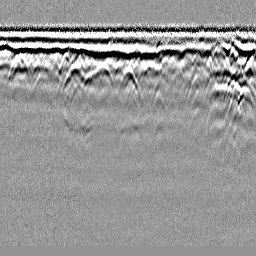cavity: (115, 65, 142, 98)
